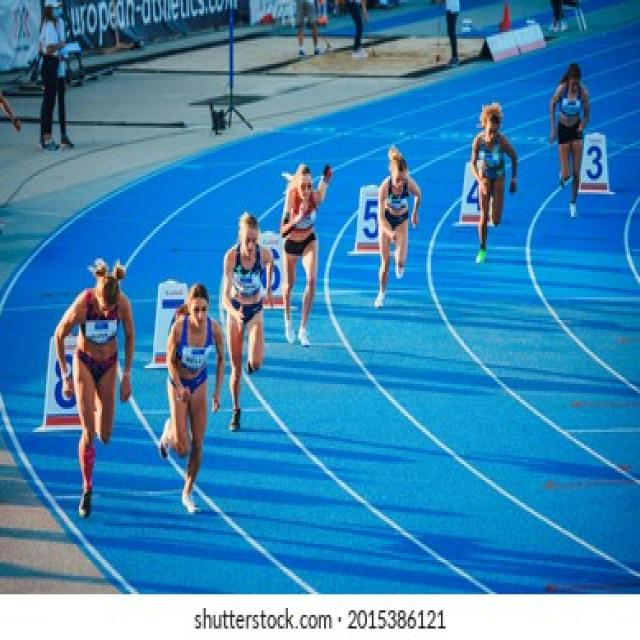running: (52, 257, 134, 521), (154, 284, 224, 516), (220, 208, 279, 437), (282, 152, 331, 347), (369, 141, 425, 310), (470, 101, 519, 266), (548, 62, 592, 220)
